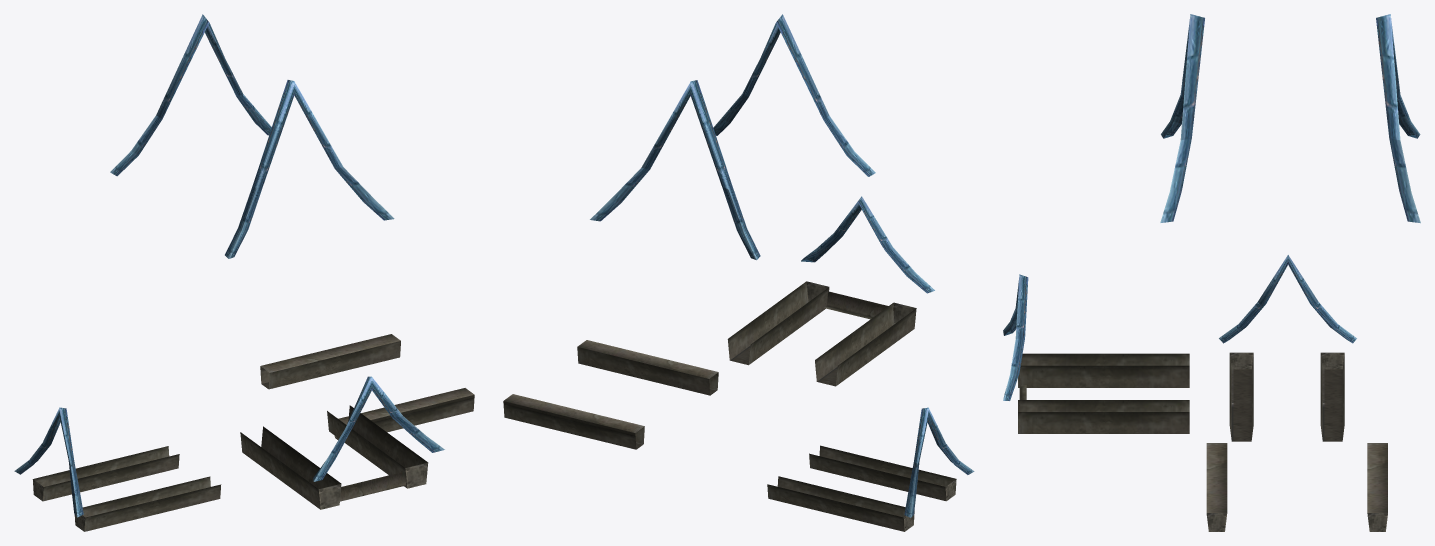
File: Tavern_Level03_H.FBX
3 views of the same model, side by side, from view 1: azimuth 30°, elevation 25°; view 2: azimuth 150°, elevation 25°; view 3: azimuth 270°, elevation 25° (orthographic). The views are drawn at different scales.
Visible parts, largest first — view 1: Tavern_Level03_H; view 2: Tavern_Level03_H; view 3: Tavern_Level03_H.
Boxes of the visible parts, x1,y1,x2,y2 form: Tavern_Level03_H: (14, 14, 474, 531); Tavern_Level03_H: (503, 14, 974, 531); Tavern_Level03_H: (1003, 14, 1420, 531).
Size of the model in its own units: 420 by 428 by 355.
